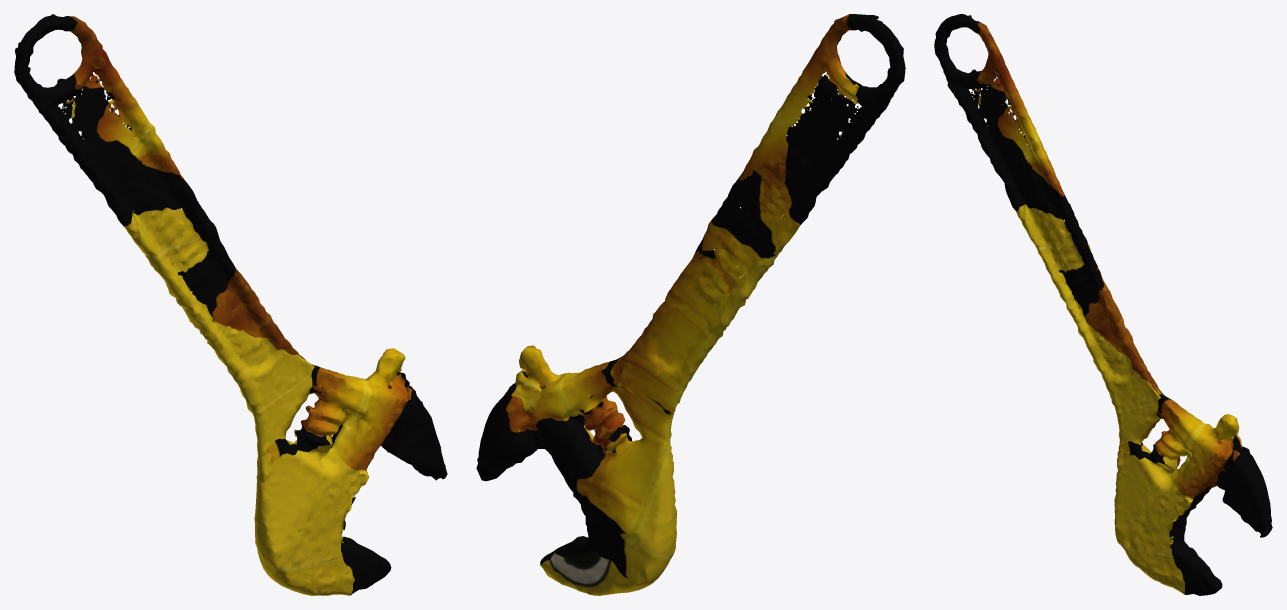
3 renders of one model, left to right at view 1: azimuth 30°, elevation 25°; view 2: azimuth 150°, elevation 25°; view 3: azimuth 330°, elevation 25°, orthographic. The views are drawn at different scales.
Bounding box in the file's own units: 0.1248 × 0.1811 × 0.0147.
